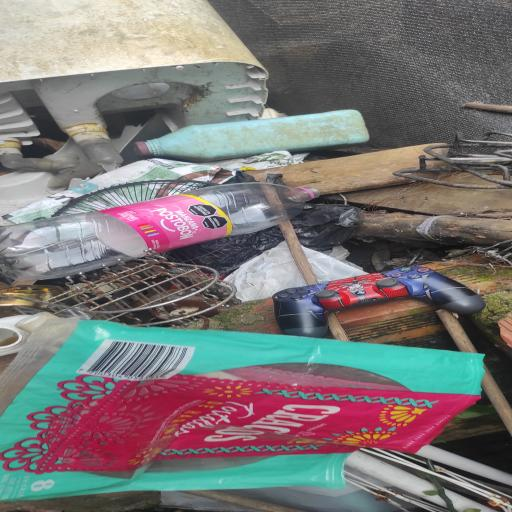ControlPlay4: (272, 266, 485, 337)
